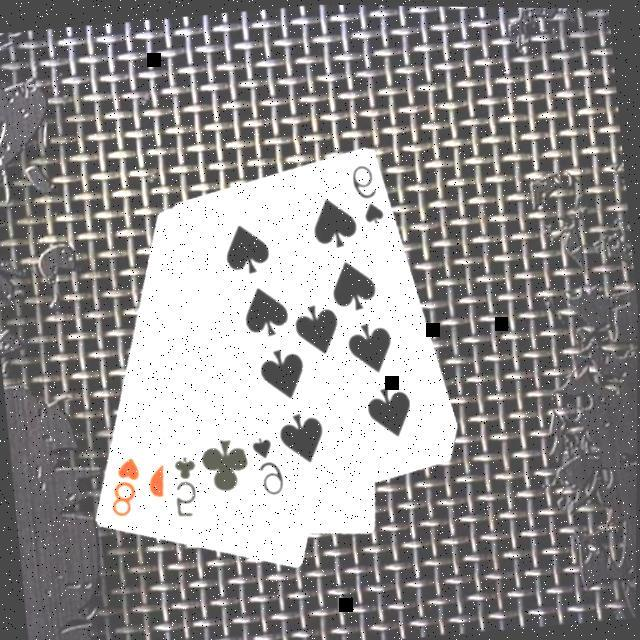5C: (167, 449, 204, 518)
8H: (102, 449, 148, 520)
9S: (247, 428, 290, 498), (347, 156, 388, 225)
